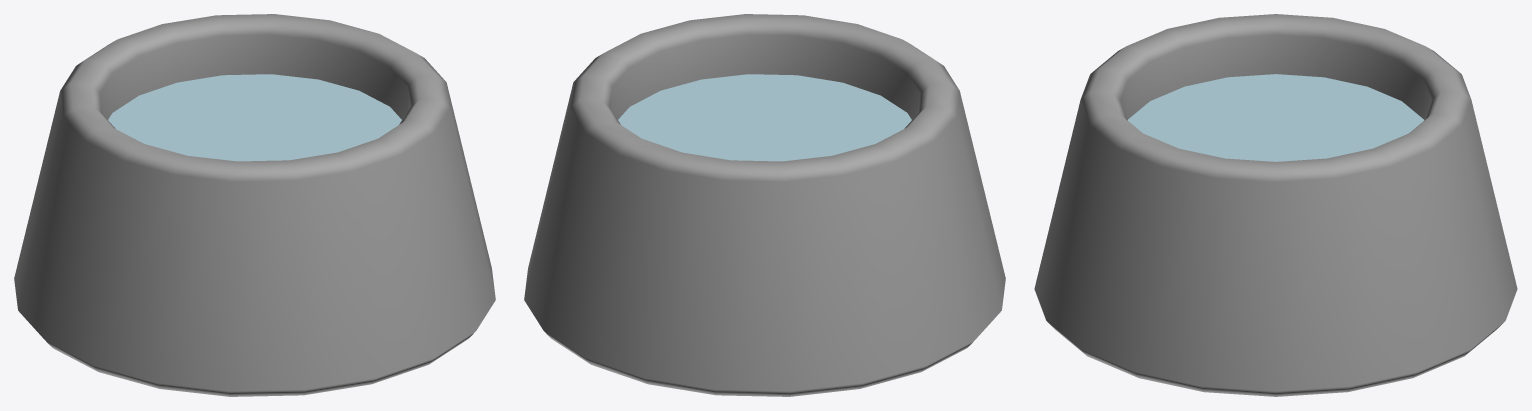
File: Bowl_of_Water.glb
The picture shows the model from 3 angles, left to right: view 1: azimuth 30°, elevation 25°; view 2: azimuth 150°, elevation 25°; view 3: azimuth 270°, elevation 25°; orthographic projection.
Parts seen in each view (by area): view 1: Bowl_of_Water; view 2: Bowl_of_Water; view 3: Bowl_of_Water.
Part boxes in pixels (box(x1,y1,x2,y2)): Bowl_of_Water: box(14, 14, 495, 396); Bowl_of_Water: box(524, 14, 1005, 396); Bowl_of_Water: box(1034, 14, 1517, 396).
Size of the model in its own units: 0.3728 by 0.1756 by 0.3728.
Materials: 1 (1 with a texture image).
